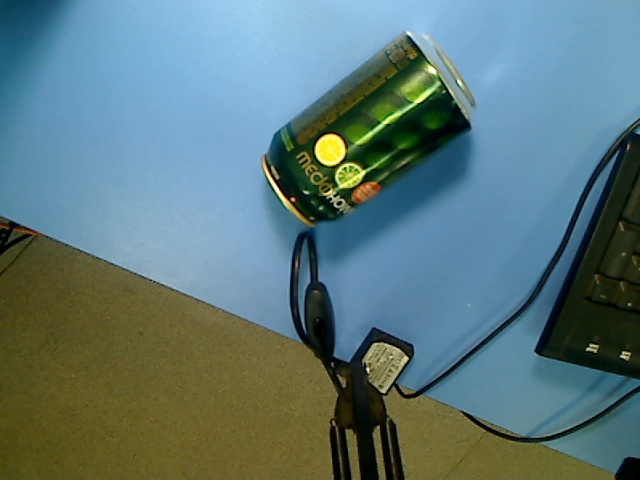can: (258, 30, 478, 228)
